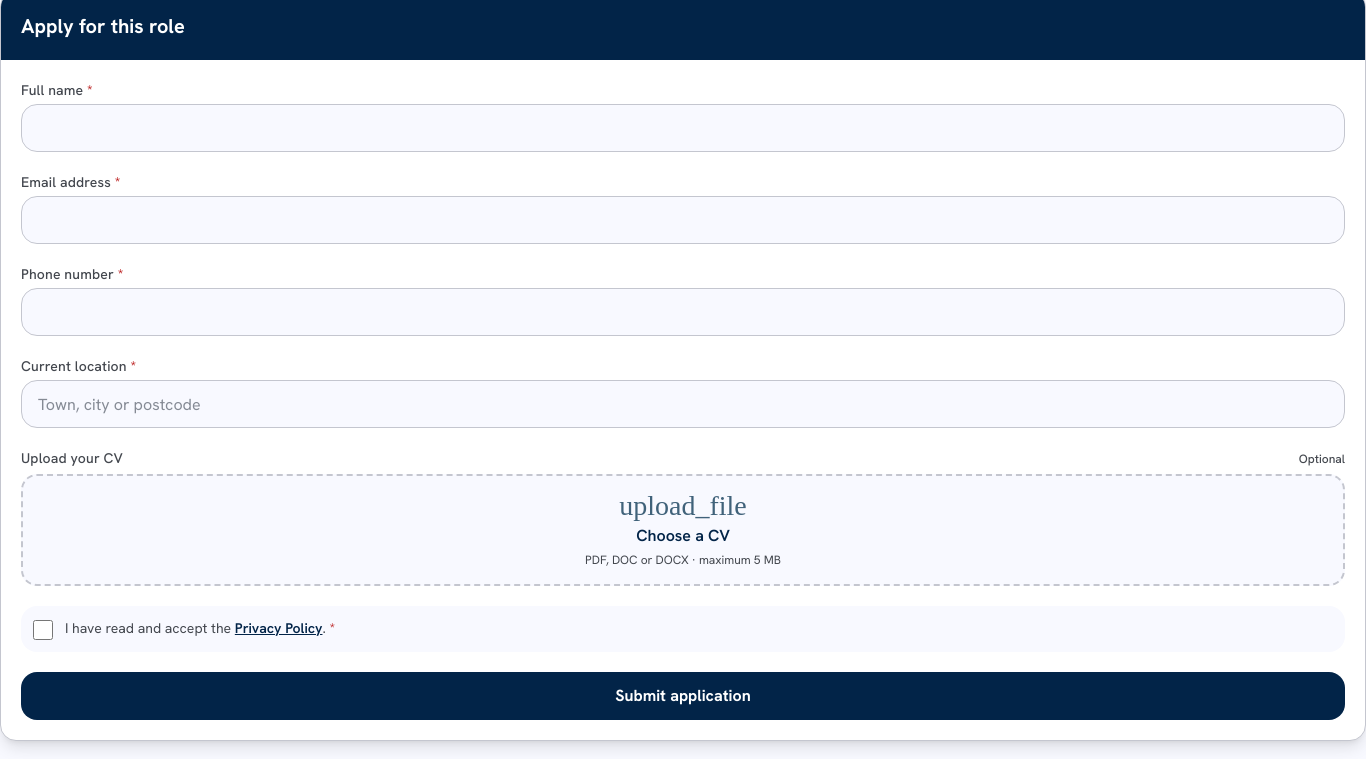
GuestApplicationForm › shows inline validation errors for empty required fields on submit
Click the button "Submit application": (683, 696) [21,672,1345,720]
(page scrolled)
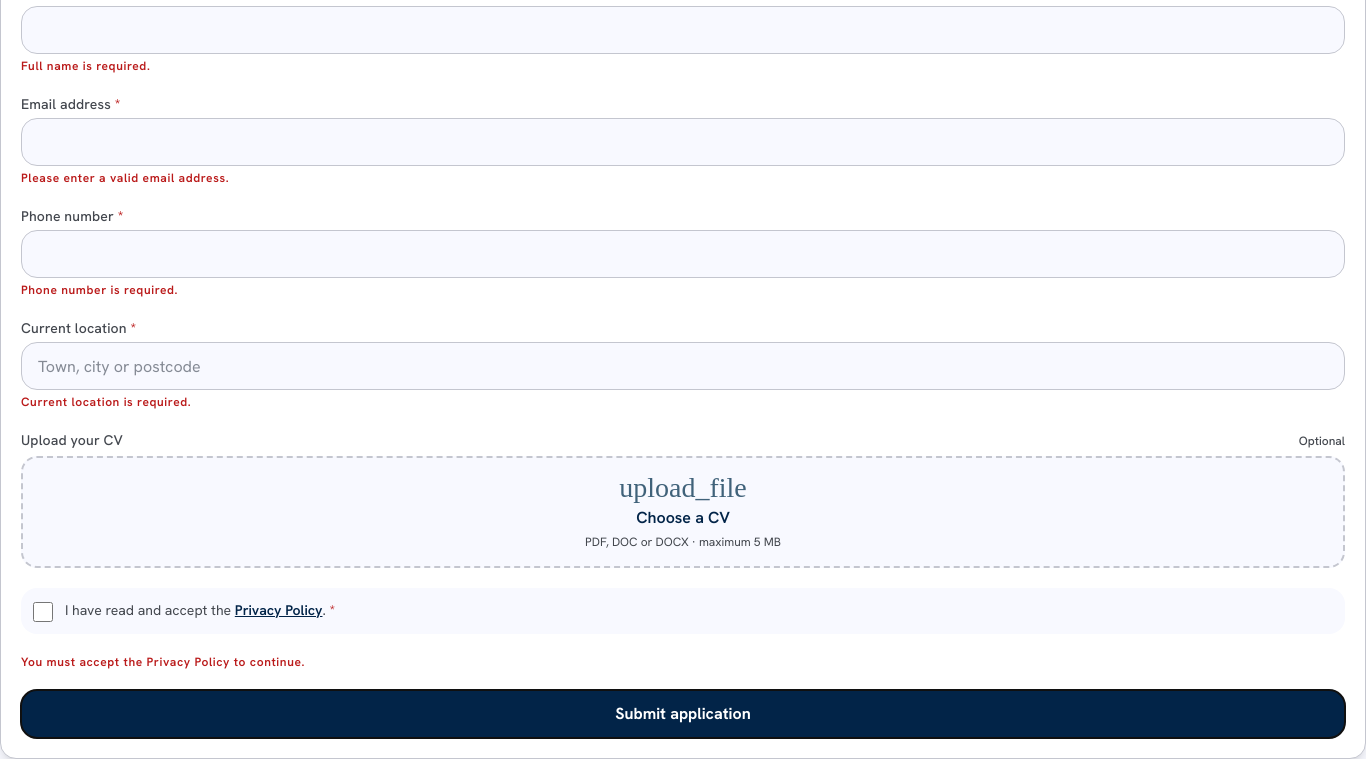
Result: the text "Full name is required." is shown at [21,58,150,74]
Result: the text "Please enter a valid email address." is shown at [21,170,229,186]
Result: the text "Phone number is required." is shown at [21,282,178,298]
